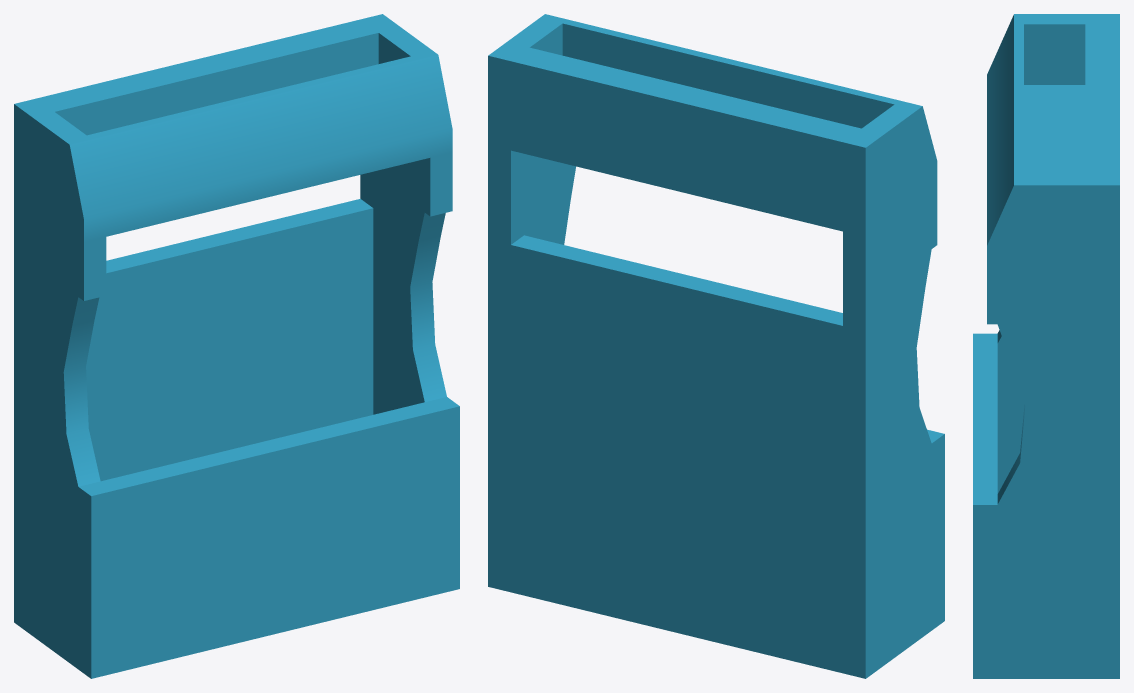
The model's file is Wooden_wine_holder.FBX.
The picture shows the model from 3 angles, left to right: view 1: azimuth 30°, elevation 25°; view 2: azimuth 150°, elevation 25°; view 3: azimuth 270°, elevation 25°; orthographic projection. The views are drawn at different scales.
Visible parts, largest first — view 1: Wooden_wine_holder; view 2: Wooden_wine_holder; view 3: Wooden_wine_holder.
Part boxes in pixels (bbox=[...]): Wooden_wine_holder: bbox=[14, 14, 459, 678]; Wooden_wine_holder: bbox=[488, 14, 944, 678]; Wooden_wine_holder: bbox=[973, 14, 1119, 678].
Bounding box in the file's own units: 0.4137 × 0.556 × 0.15.
